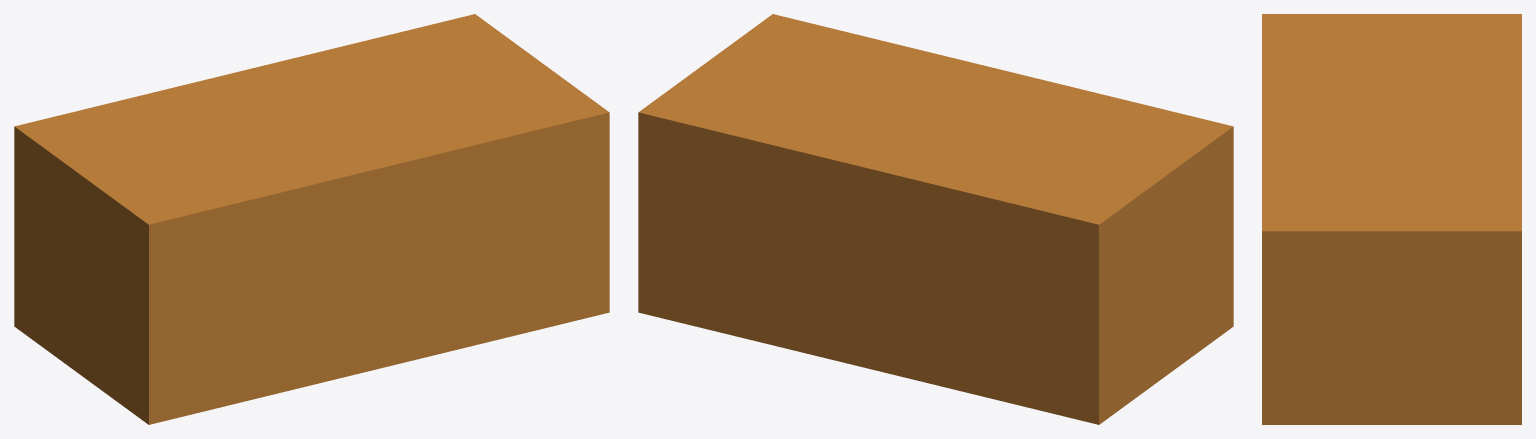
Rendered from Turntable Table.fbx.
3 renders of one model, left to right at view 1: azimuth 30°, elevation 25°; view 2: azimuth 150°, elevation 25°; view 3: azimuth 270°, elevation 25°, orthographic. The views are drawn at different scales.
Parts seen in each view (by area): view 1: Turntable Table; view 2: Turntable Table; view 3: Turntable Table.
Boxes of the visible parts, x1,y1,x2,y2 form: Turntable Table: (14,14,609,424); Turntable Table: (638,14,1233,424); Turntable Table: (1262,14,1521,424).
Bounding box in the file's own units: 396 × 164 × 200.
